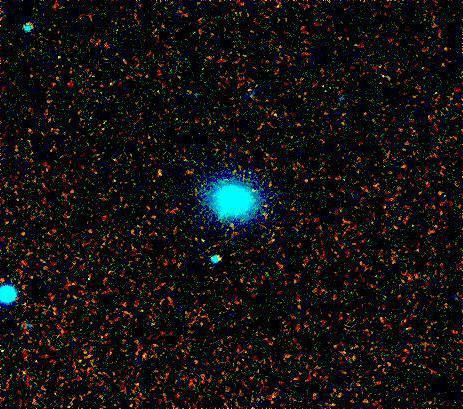star: (146, 158, 176, 188)
